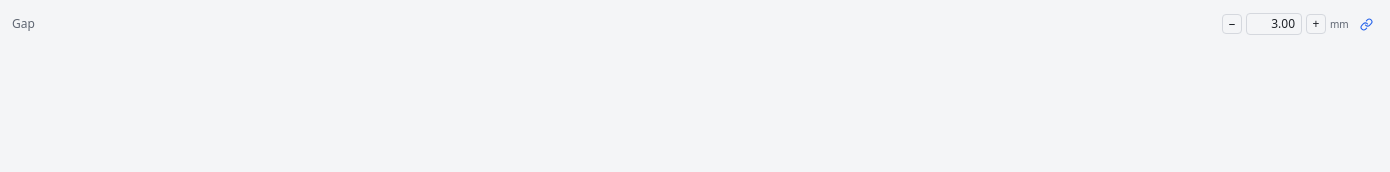
it: Chain icon on the gaps › shows one gap while linked and both when unlinked, and says which it is
Expected: the text "Gap" is shown, [12, 16, 35, 32]
Expected: the text "Vertical" is not shown
Click the button named "Link horizontal and vertical": (1366, 24) [1354, 12, 1378, 36]
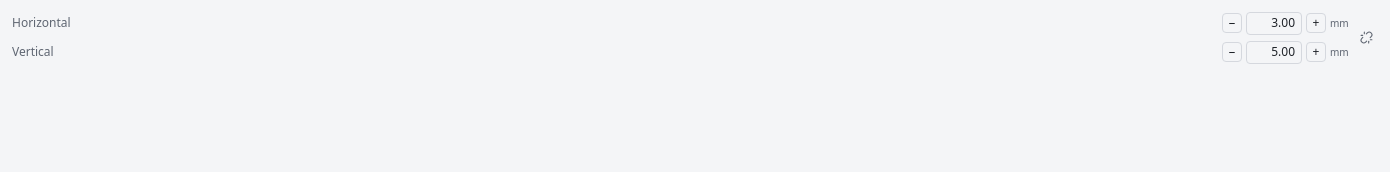
Expected: the text "Horizontal" is shown, [12, 15, 71, 32]
Expected: the text "Vertical" is shown, [12, 44, 54, 61]
